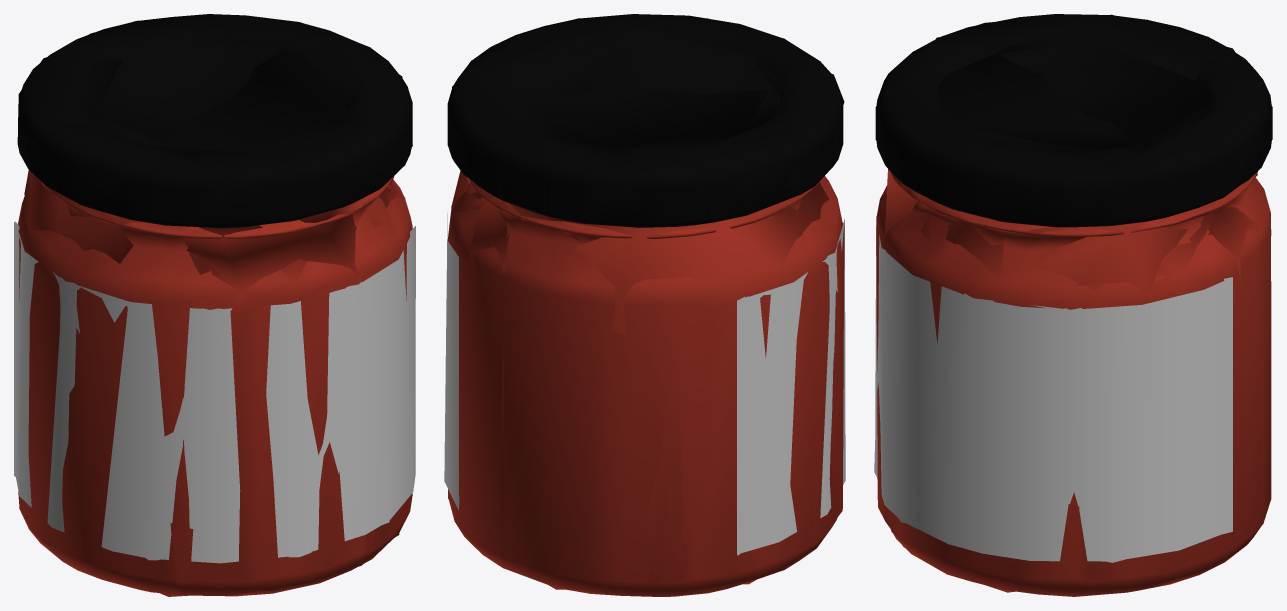
Rendered from imp-pasta-sauce.glb.
3 views of the same model, side by side, from view 1: azimuth 30°, elevation 25°; view 2: azimuth 150°, elevation 25°; view 3: azimuth 270°, elevation 25° (orthographic).
Parts seen in each view (by area): view 1: Material1 (×9); view 2: Material1 (×9); view 3: Material1 (×8).
Part boxes in pixels (box(x1,y1,x2,y2)): Material1 (×9): box(14, 14, 415, 596); Material1 (×9): box(444, 14, 845, 596); Material1 (×8): box(874, 14, 1272, 596).
Bounding box in the file's own units: 0.1502 × 0.18 × 0.1496.
